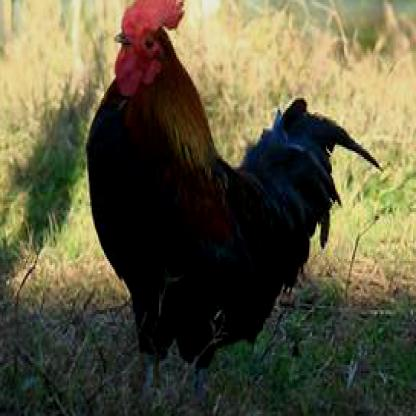chicken: (87, 0, 382, 398)
